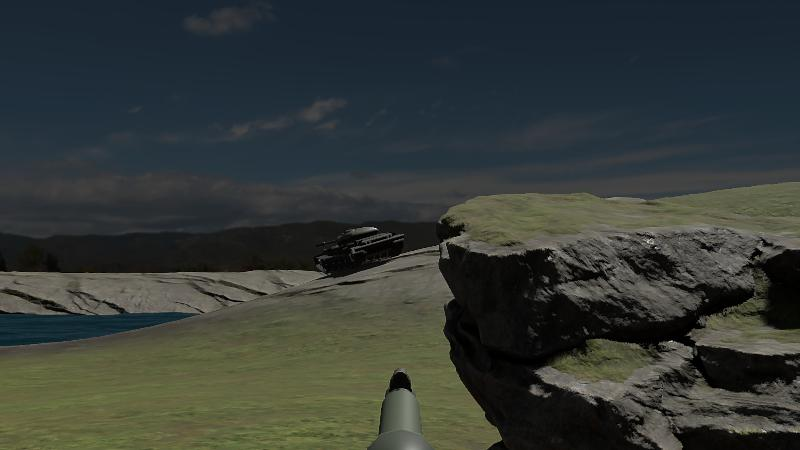Tank: (313, 223, 406, 276)
